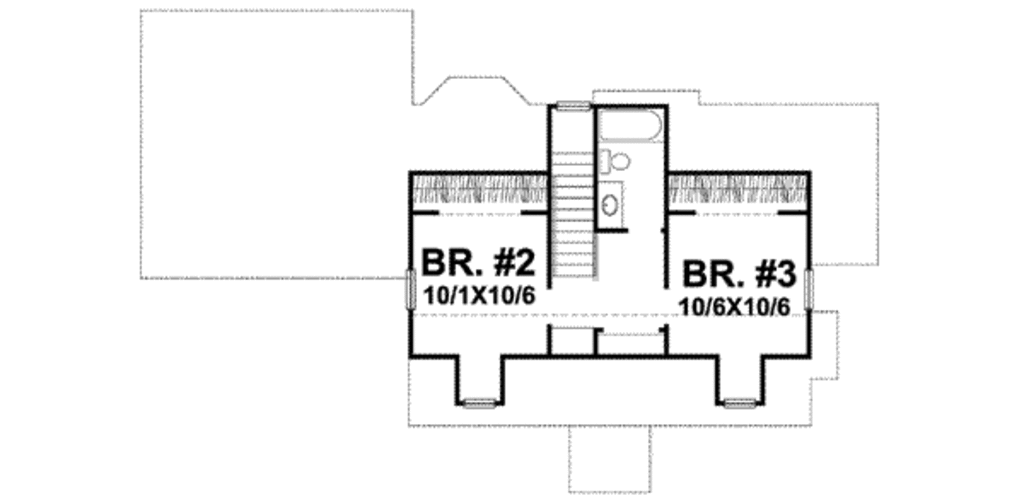large_sink: (593, 145, 631, 179)
small_sink: (599, 181, 623, 232)
stairs: (544, 106, 602, 287)
tub: (597, 111, 665, 146)
windows: (455, 395, 500, 414), (800, 266, 817, 316), (724, 394, 760, 411), (406, 268, 418, 316)
